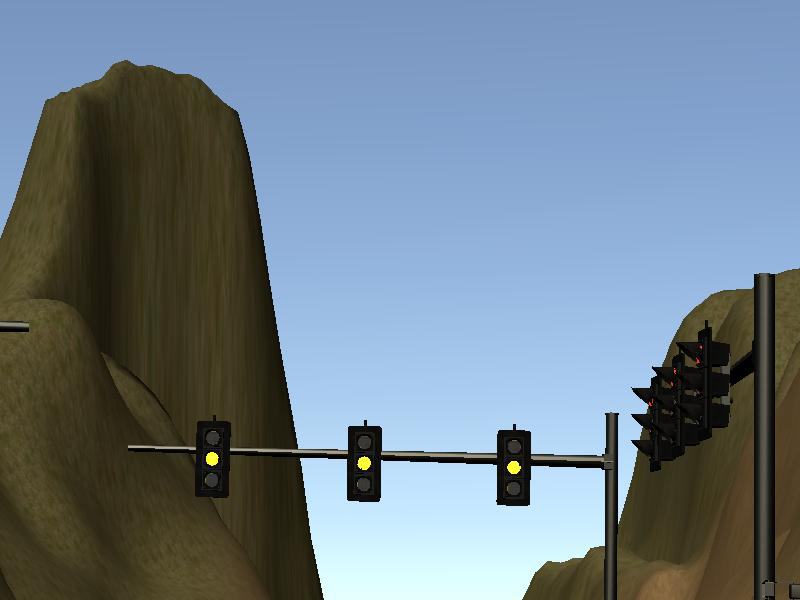yellow: (196, 422, 230, 498), (498, 431, 532, 505), (349, 425, 381, 502)
